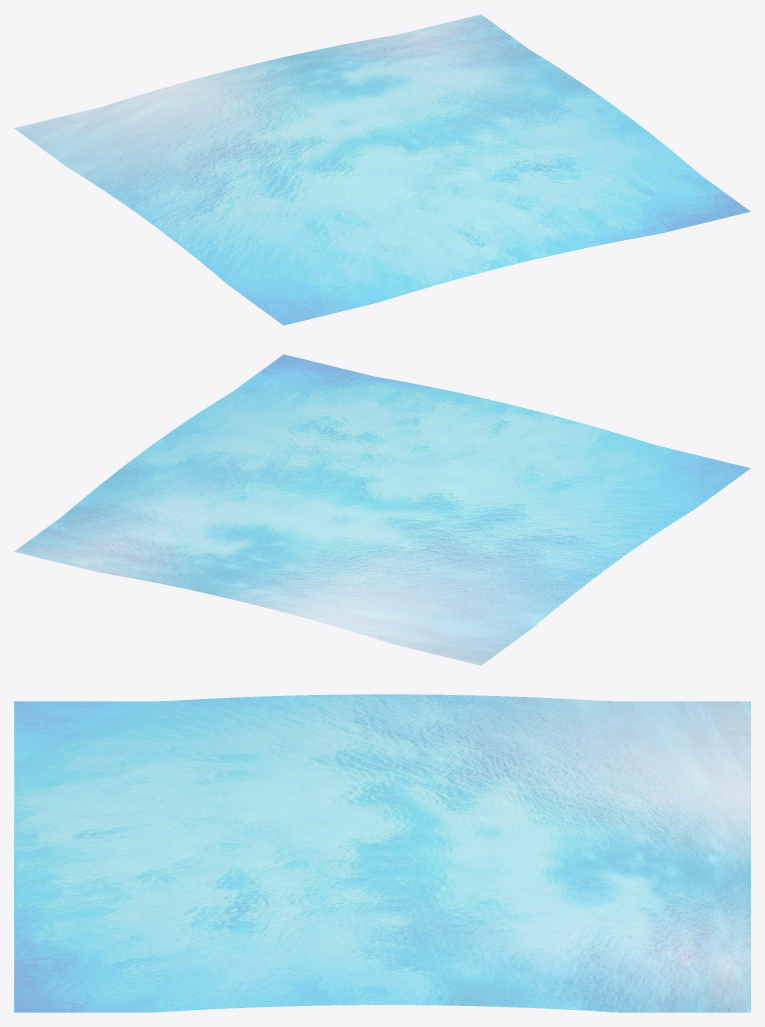
The model's file is sea.fbx.
The picture shows the model from 3 angles, top to bottom: view 1: azimuth 30°, elevation 25°; view 2: azimuth 150°, elevation 25°; view 3: azimuth 270°, elevation 25°; orthographic projection. The views are drawn at different scales.
Parts seen in each view (by area): view 1: Plane.001; view 2: Plane.001; view 3: Plane.001.
Part boxes in pixels (x1=…): Plane.001: x1=14, y1=14, x2=750, y2=325; Plane.001: x1=14, y1=354, x2=750, y2=665; Plane.001: x1=14, y1=694, x2=750, y2=1012.
Size of the model in its own units: 20000 by 787 by 20000.
Materials: 1 (1 with a texture image).
